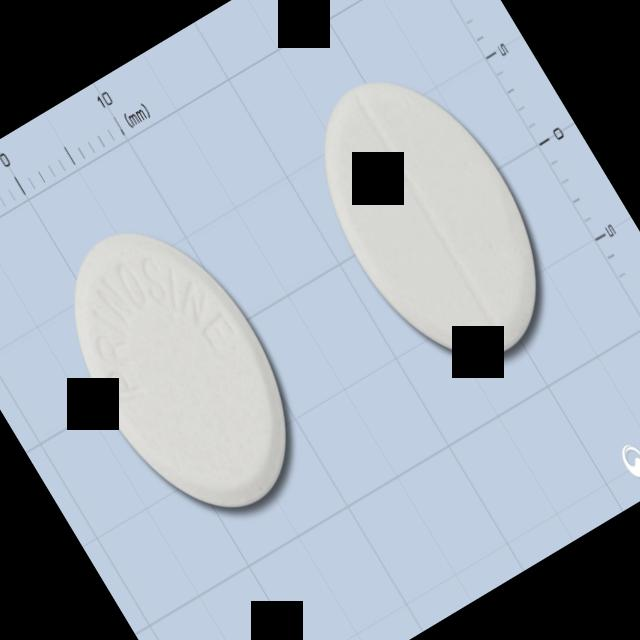Prinosine500mg: (29, 194, 334, 546)
